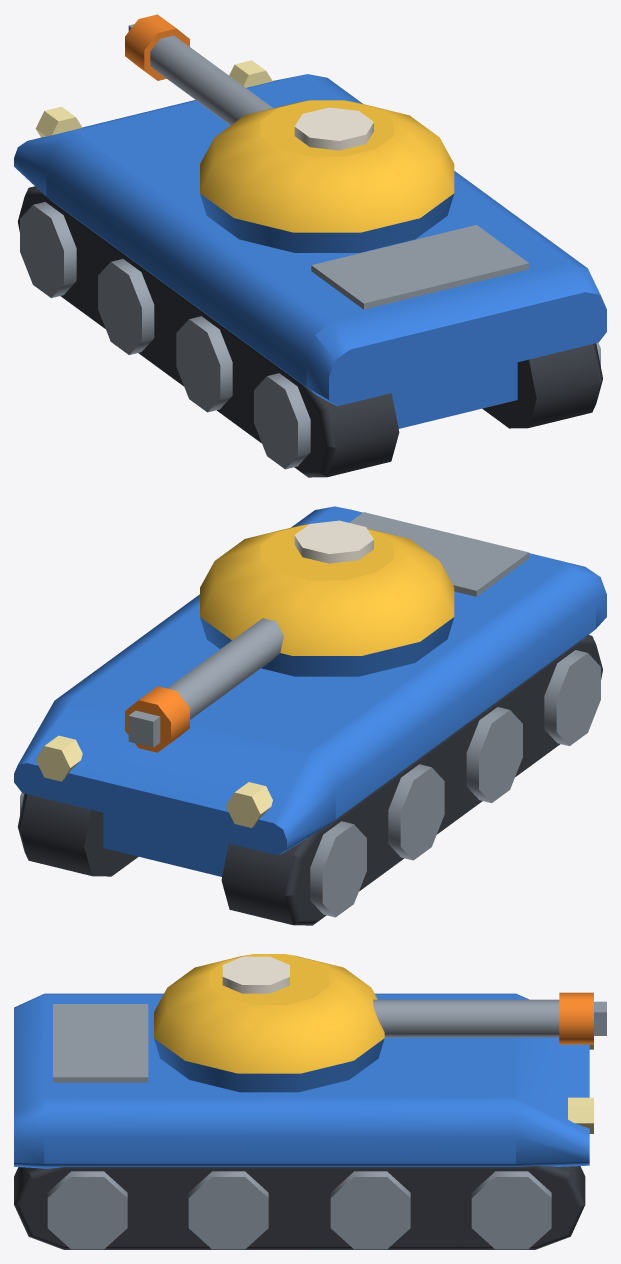
The model's file is unit-tank.glb.
The picture shows the model from 3 angles, top to bottom: view 1: azimuth 30°, elevation 25°; view 2: azimuth 150°, elevation 25°; view 3: azimuth 270°, elevation 25°; orthographic projection. The views are drawn at different scales.
Parts seen in each view (by area): view 1: hull, turret, wheel (×4), track_left, barrel, track_right, hatch; view 2: hull, turret, wheel (×4), track_left, barrel, track_right, hatch, muzzle; view 3: hull, track_right, turret, wheel (×4), barrel, hatch, muzzle.
Part boxes in pixels (x1,y1,x2,y2): hull: (14, 60, 606, 428); turret: (200, 100, 454, 252); wheel (×4): (20, 202, 310, 469); track_left: (17, 186, 399, 477); barrel: (125, 14, 273, 125); track_right: (482, 343, 602, 428); hatch: (294, 107, 373, 150); hull: (14, 506, 606, 876); turret: (200, 524, 454, 676); wheel (×4): (310, 650, 600, 917); track_left: (221, 635, 602, 925); barrel: (125, 618, 283, 752); track_right: (17, 793, 138, 876); hatch: (294, 520, 373, 563); muzzle: (128, 710, 160, 747); hull: (14, 993, 593, 1168); track_right: (14, 1166, 585, 1249); turret: (154, 954, 384, 1092); wheel (×4): (47, 1171, 551, 1249); barrel: (373, 992, 593, 1044); hatch: (222, 956, 289, 993); muzzle: (594, 1001, 606, 1035).
Bounding box in the file's own units: 3.66 × 2.81 × 6.85.
